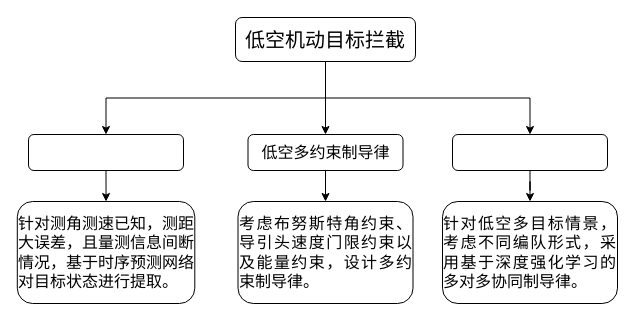
This 636x321 diagram has some shape labels left out. Here are the shapes that lost their labels. From the top down, the box of each, then its label:
(28, 134, 184, 170): 单目标信息感知处理
(452, 134, 608, 170): 多对多协同制导律
